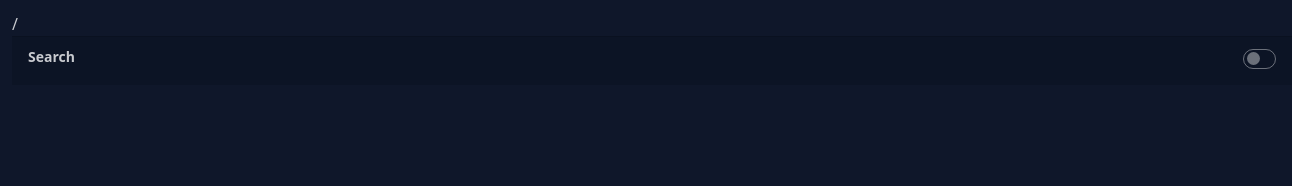
Test: NavSearchSection › collapsing is not a reset — the typed text survives
Click the checkbox labelled "Search".
click(1260, 59)  # box x1=1243 y1=49 x2=1276 y2=69
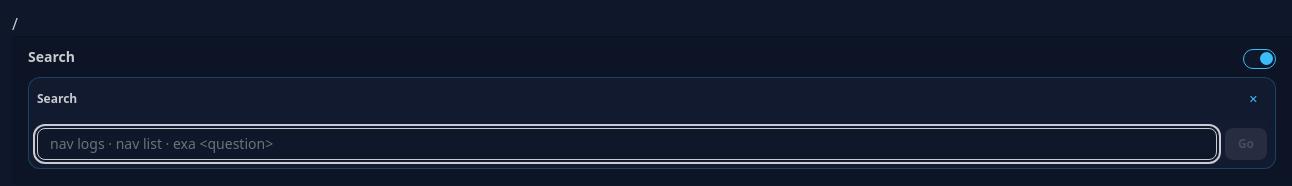
Type "nav logs" into the dropdown named "Search commands".
click(627, 144); type("nav logs")  # box x1=37 y1=128 x2=1217 y2=160
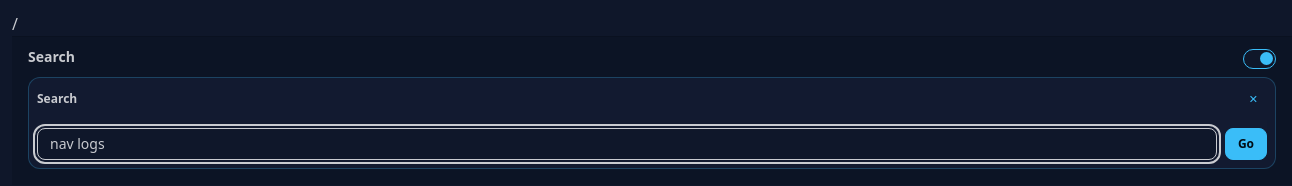
Click the checkbox labelled "Search".
click(1260, 59)  # box x1=1243 y1=49 x2=1276 y2=69
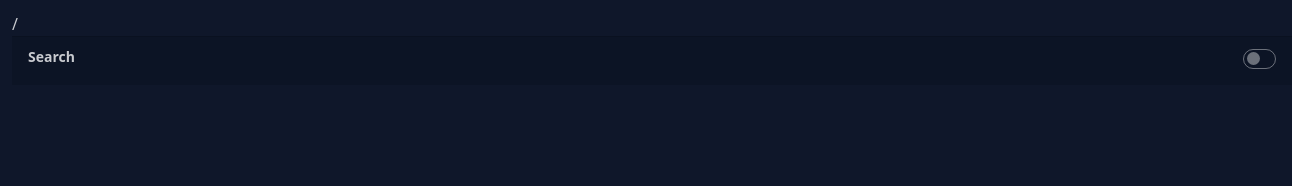
Click the checkbox labelled "Search".
click(1260, 59)  # box x1=1243 y1=49 x2=1276 y2=69
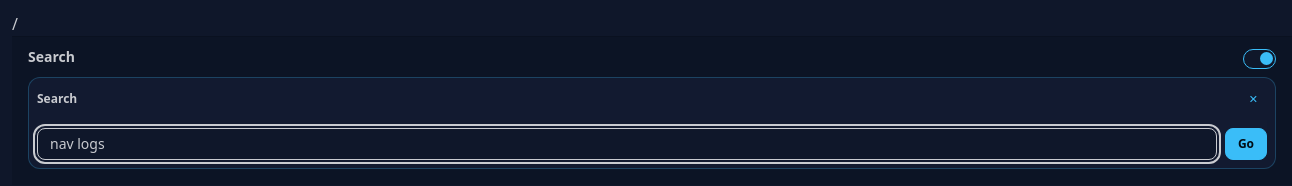
Now the dropdown named "Search commands" holds "nav logs", box x1=37 y1=128 x2=1217 y2=160
